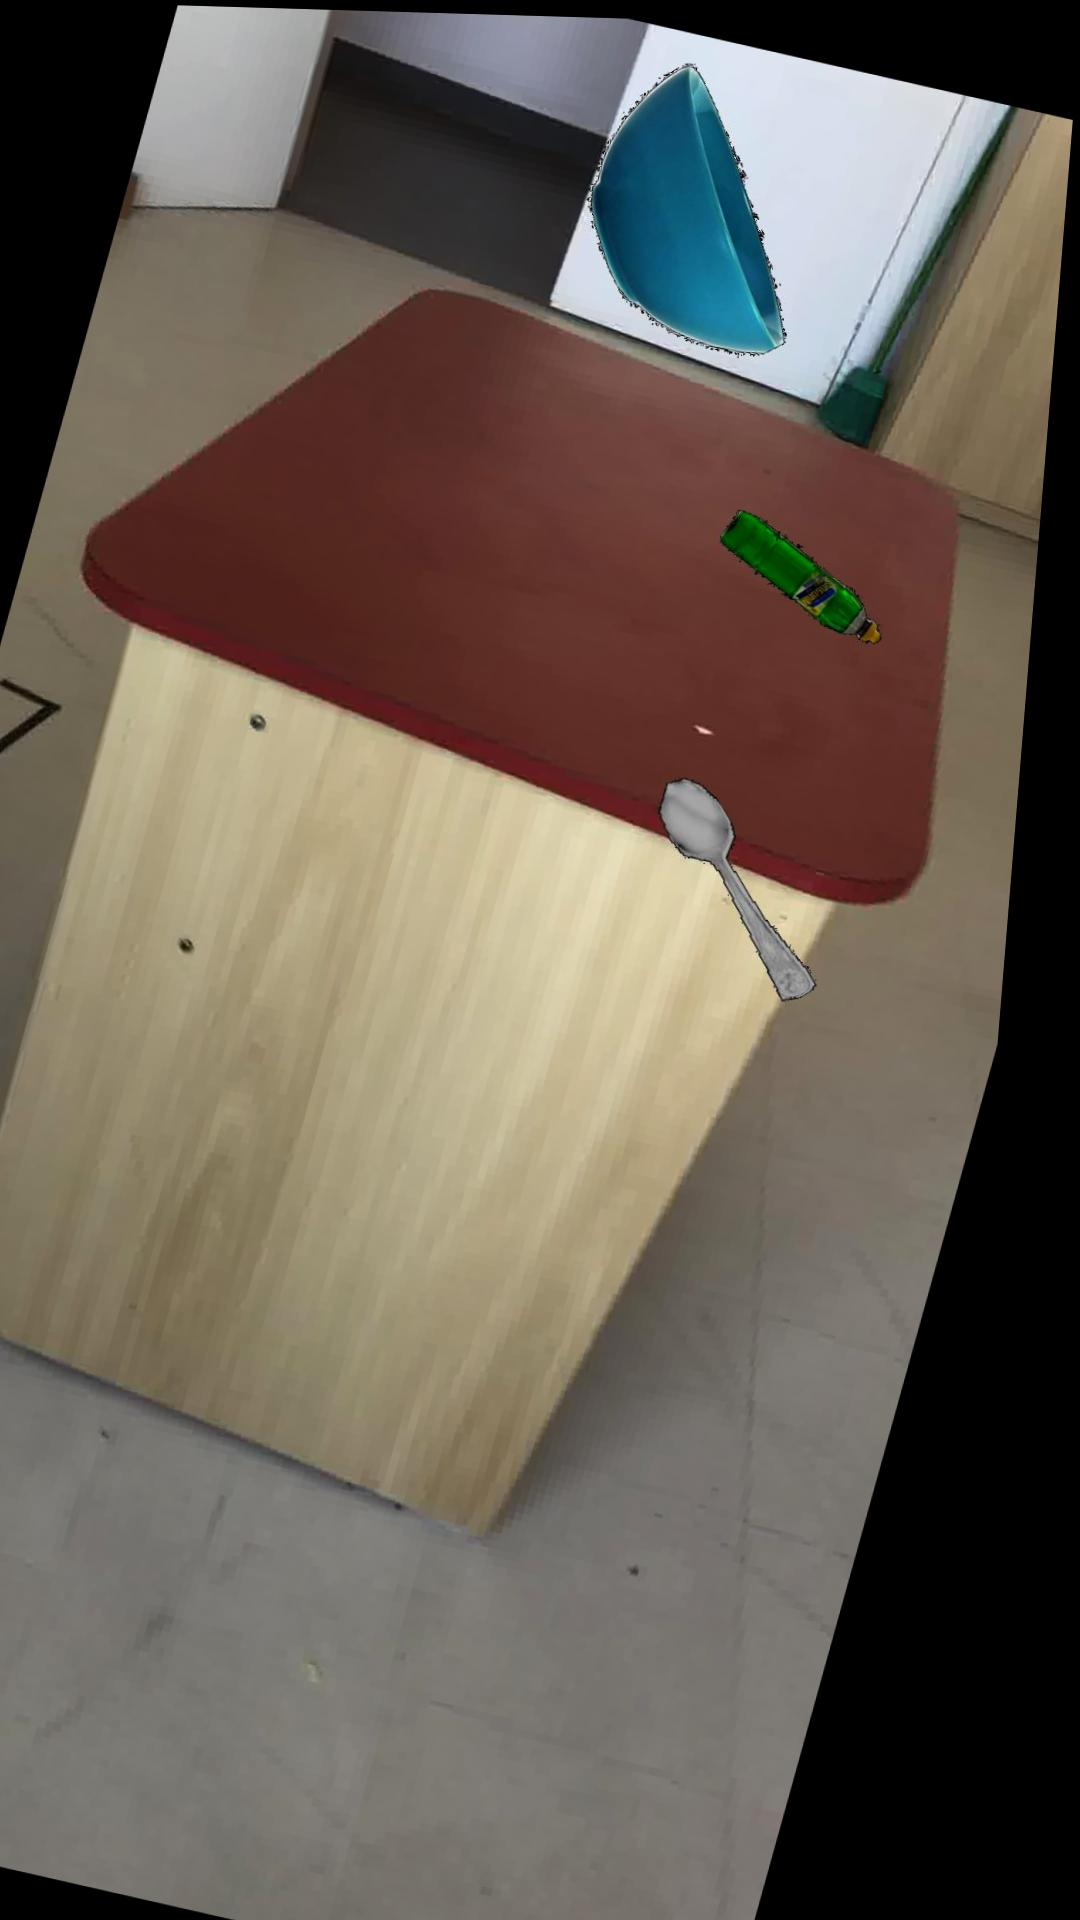bowl: (593, 59, 793, 347)
cleaner: (731, 502, 893, 636)
spoon: (673, 771, 835, 993)
